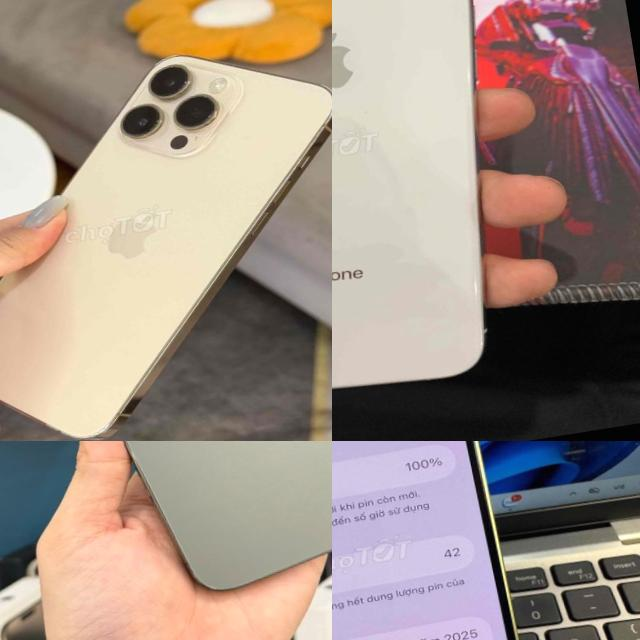gen_12_13: (39, 441, 332, 612)
gen_14: (0, 20, 332, 441)
gen_17: (332, 441, 574, 640)
gen_x_xs: (332, 0, 567, 426)
